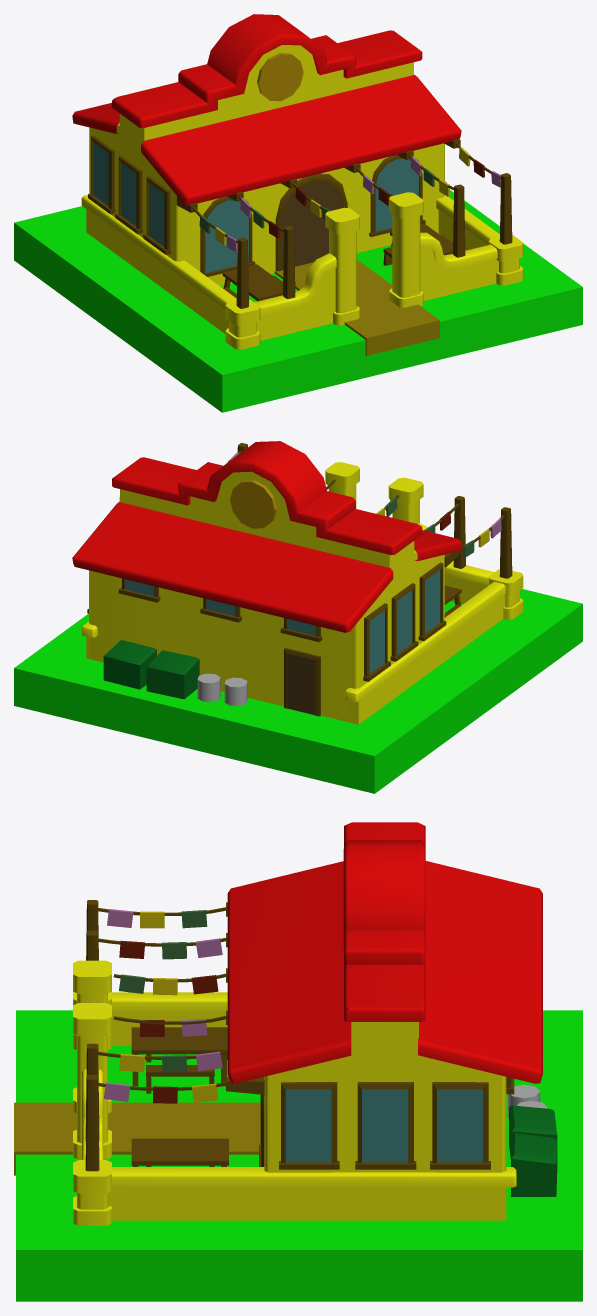
Rendered from MexiConcept01_SM.fbx.
The picture shows the model from 3 angles, top to bottom: view 1: azimuth 30°, elevation 25°; view 2: azimuth 150°, elevation 25°; view 3: azimuth 270°, elevation 25°; orthographic projection. The views are drawn at different scales.
Parts seen in each view (by area): view 1: Combined_MexiFInal; view 2: Combined_MexiFInal; view 3: Combined_MexiFInal.
Part boxes in pixels (x1=…): Combined_MexiFInal: x1=14, y1=14, x2=582, y2=412; Combined_MexiFInal: x1=14, y1=441, x2=582, y2=793; Combined_MexiFInal: x1=14, y1=822, x2=582, y2=1301.
Bounding box in the file's own units: 100 × 65.1 × 100.
